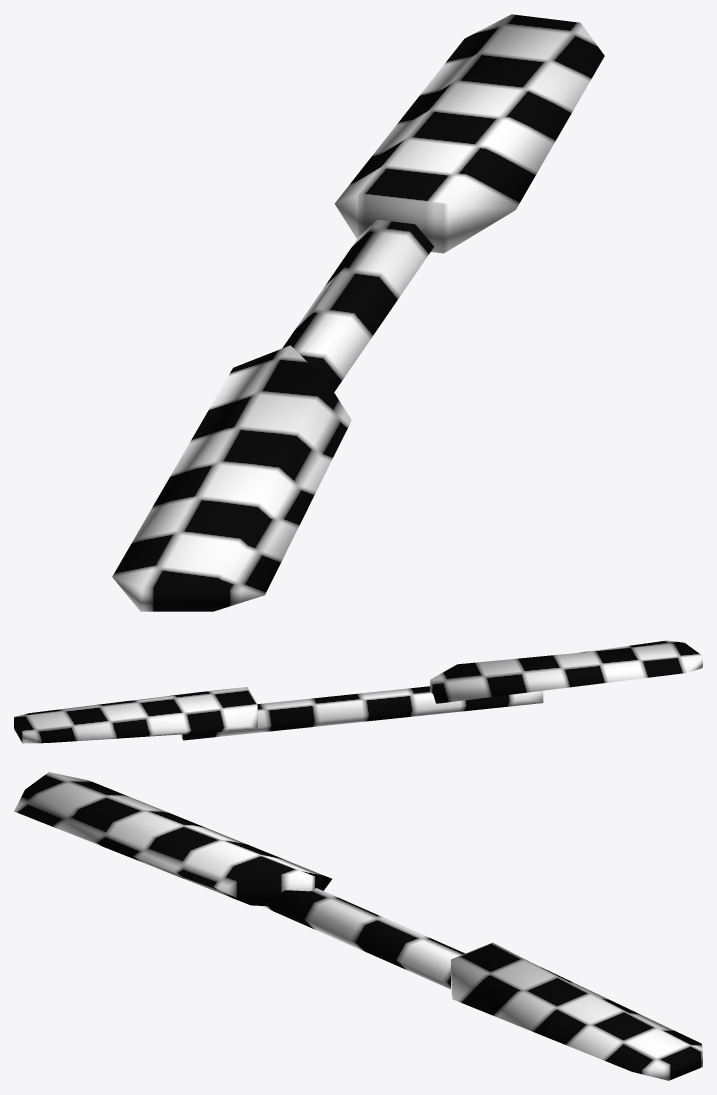
Rendered from initqu69.dae.
3 renders of one model, top to bottom at view 1: azimuth 30°, elevation 25°; view 2: azimuth 150°, elevation 25°; view 3: azimuth 270°, elevation 25°, orthographic. The views are drawn at different scales.
Visible parts, largest first — view 1: item; view 2: item; view 3: item.
Part boxes in pixels (x1,y1,x2,y2): item: [112, 14, 604, 611]; item: [14, 640, 702, 743]; item: [14, 772, 702, 1080].
Bounding box in the file's own units: 1.4 × 1.39 × 0.0934.
1 material, 1 textured.
